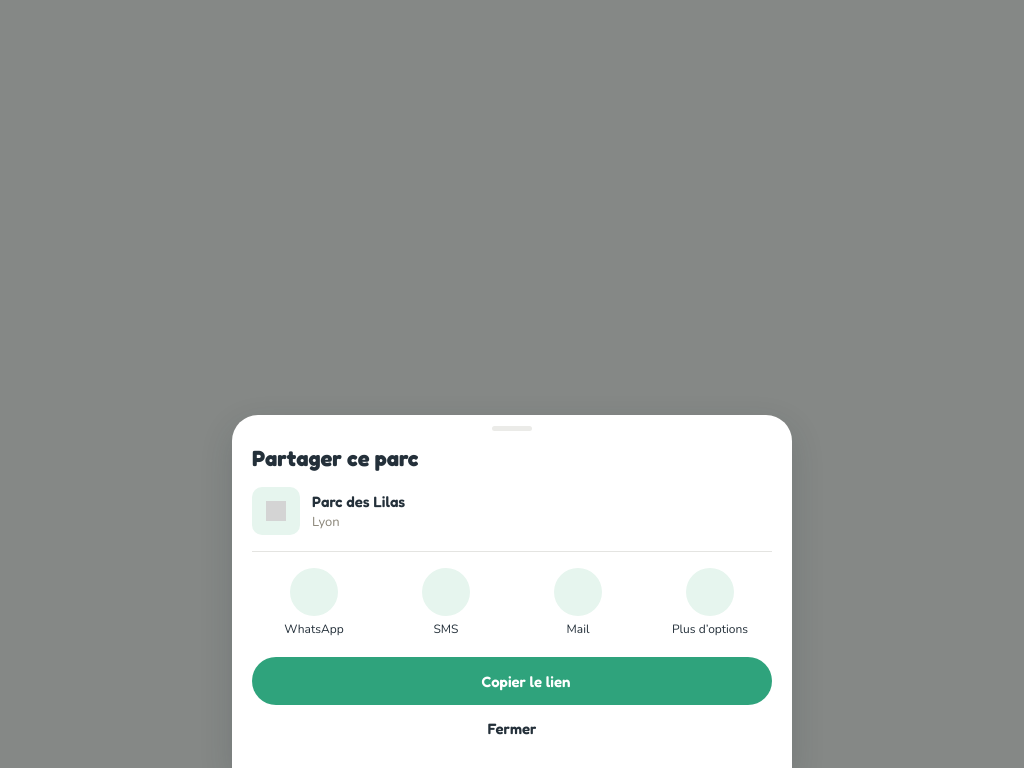
Test: ShareSheet › Copier le lien writes the canonical URL and confirms
Click the button "Copier le lien" at (512, 681), box [252, 657, 772, 705]
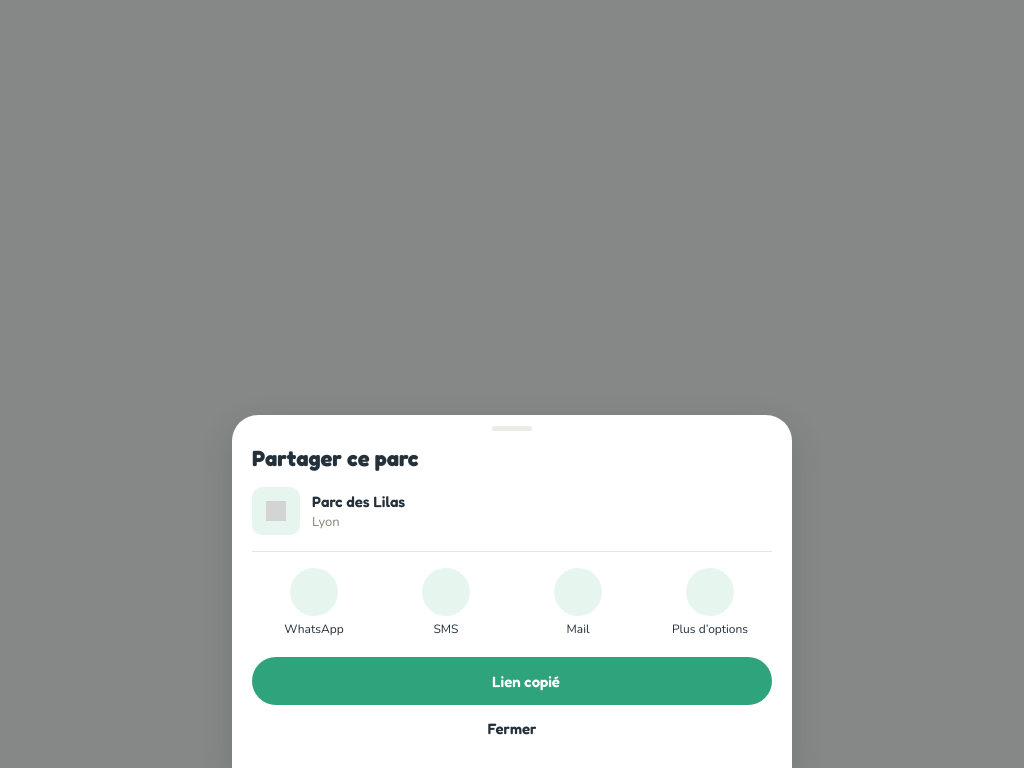
Result: the text "Lien copié" is shown at [492, 672, 560, 691]
